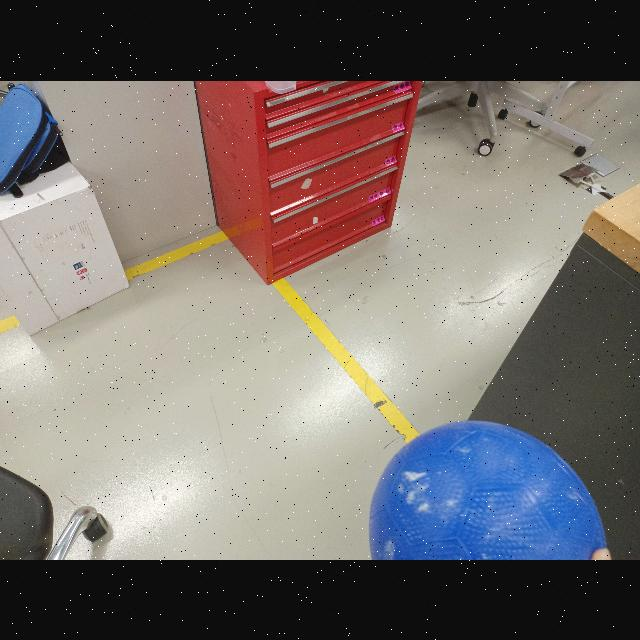B: (368, 420, 608, 560)
